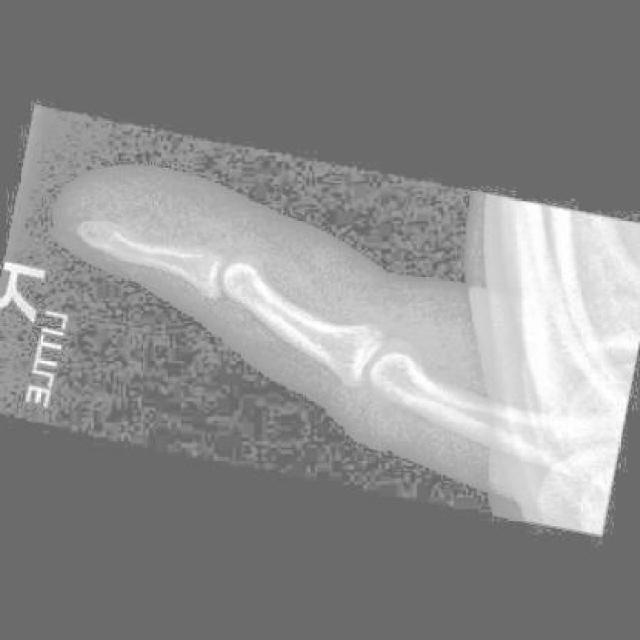Fracture: (114, 220, 168, 273)
